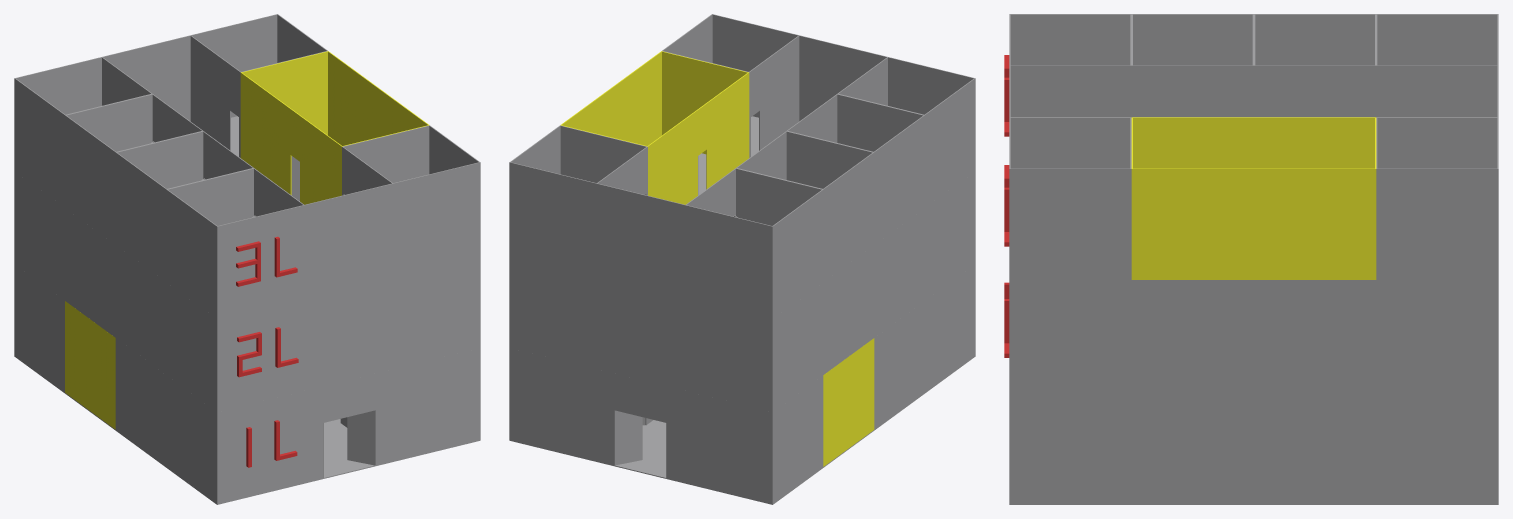
Rendered from 第二组.glb.
3 renders of one model, left to right at view 1: azimuth 30°, elevation 25°; view 2: azimuth 150°, elevation 25°; view 3: azimuth 270°, elevation 25°, orthographic. The views are drawn at different scales.
Bounding box in the file's own units: 0.015 × 0.0151 × 0.0202.
